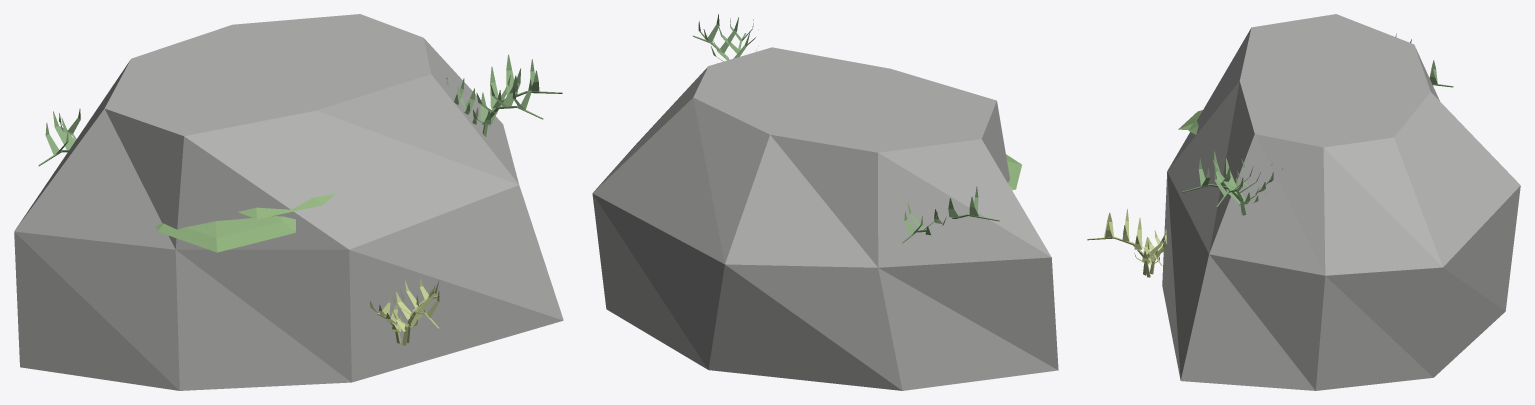
File: rocky_outcrop_with_ferns.glb
3 views of the same model, side by side, from view 1: azimuth 30°, elevation 25°; view 2: azimuth 150°, elevation 25°; view 3: azimuth 270°, elevation 25° (orthographic). The views are drawn at different scales.
Parts seen in each view (by area): view 1: rocky-outcrop-with-ferns; view 2: rocky-outcrop-with-ferns; view 3: rocky-outcrop-with-ferns.
Part boxes in pixels (x1,y1,x2,y2): rocky-outcrop-with-ferns: [14, 14, 563, 390]; rocky-outcrop-with-ferns: [592, 14, 1058, 390]; rocky-outcrop-with-ferns: [1087, 14, 1520, 390].
Bounding box in the file's own units: 2.95 × 1.41 × 2.64.
